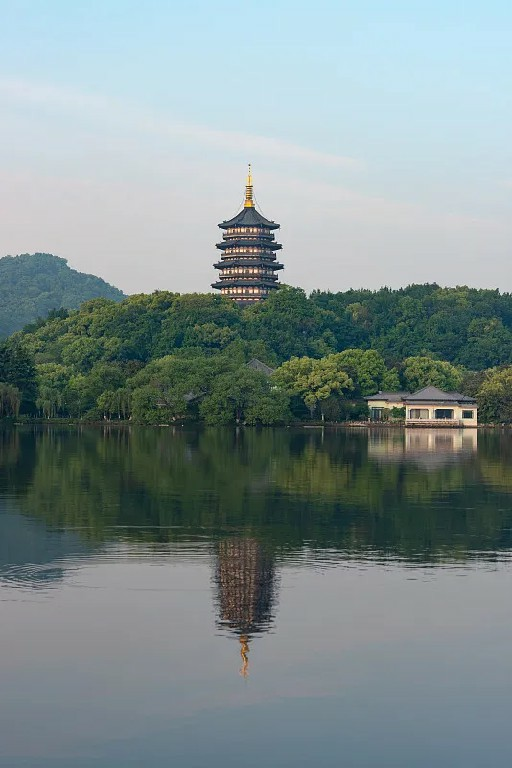Leifeng: (210, 160, 291, 305)
